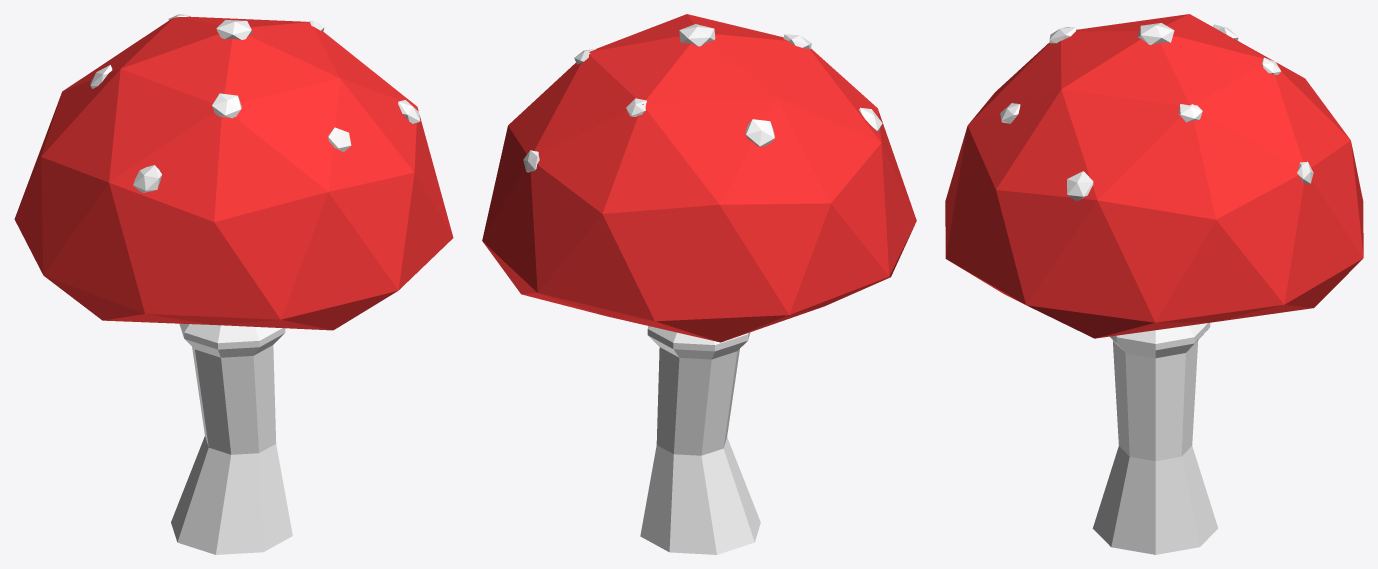
Rendered from Mushroom_02.fbx.
3 views of the same model, side by side, from view 1: azimuth 30°, elevation 25°; view 2: azimuth 150°, elevation 25°; view 3: azimuth 270°, elevation 25° (orthographic).
Parts seen in each view (by area): view 1: Mushroom_02; view 2: Mushroom_02; view 3: Mushroom_02.
Boxes of the visible parts, <box> form: Mushroom_02: <box>14,14,453,554</box>; Mushroom_02: <box>482,14,916,554</box>; Mushroom_02: <box>945,14,1363,554</box>.
Bounding box in the file's own units: 25.72 × 32.58 × 24.49.
